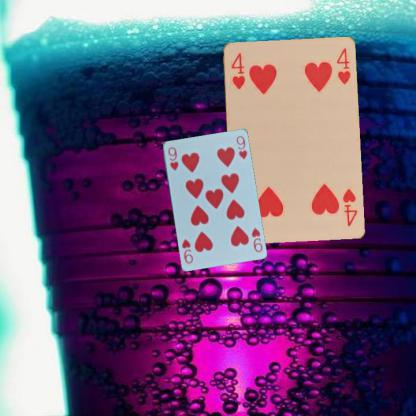4h: (340, 186, 358, 227), (228, 50, 246, 90)
9h: (165, 144, 180, 172), (249, 225, 264, 253)
